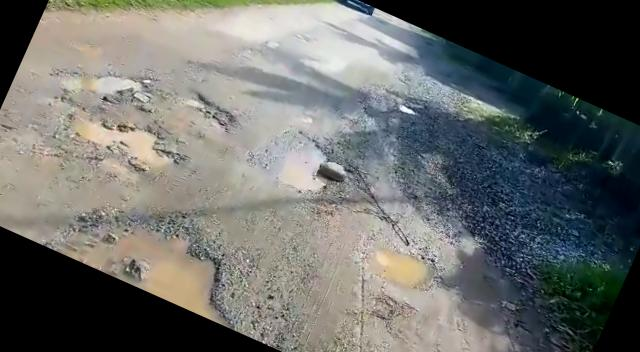pothole: (67, 189, 286, 340), (56, 94, 190, 184), (47, 44, 156, 122), (261, 124, 344, 200), (356, 234, 440, 301), (183, 89, 244, 134)
